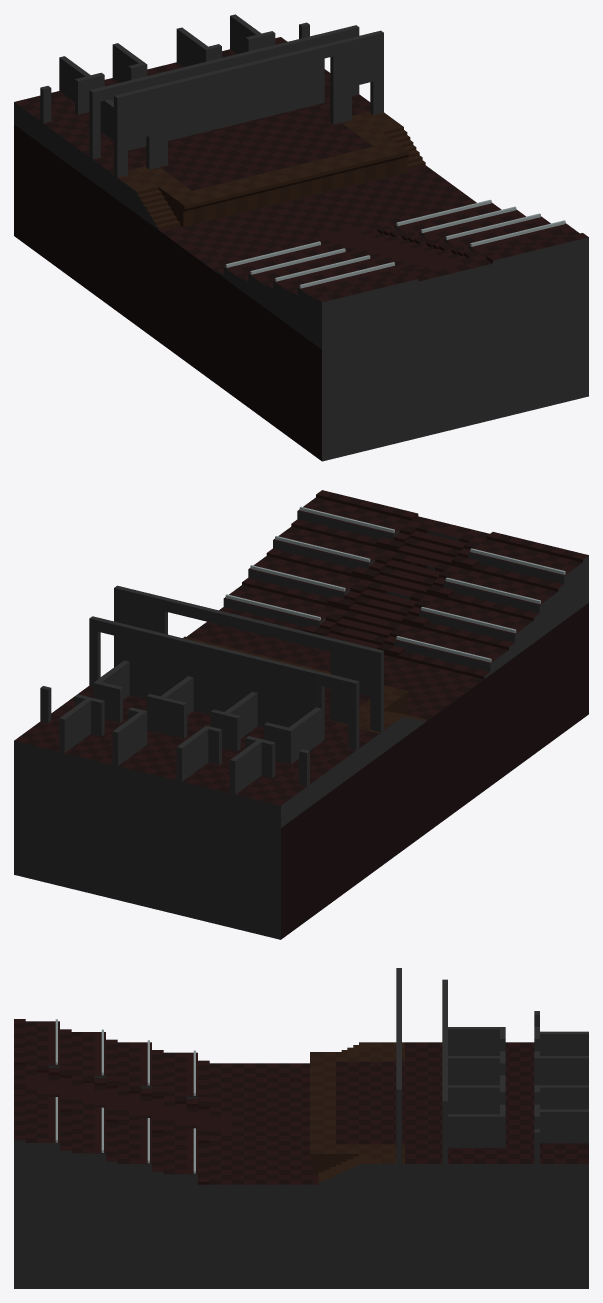
The model's file is Theat Chunk 2.FBX.
3 renders of one model, top to bottom at view 1: azimuth 30°, elevation 25°; view 2: azimuth 150°, elevation 25°; view 3: azimuth 270°, elevation 25°, orthographic. The views are drawn at different scales.
Visible parts, largest first — view 1: New Land Chunk; view 2: New Land Chunk; view 3: New Land Chunk.
Part boxes in pixels (bbox=[...]): New Land Chunk: bbox=[14, 14, 588, 461]; New Land Chunk: bbox=[14, 490, 588, 939]; New Land Chunk: bbox=[14, 968, 588, 1288].
Size of the model in its own units: 25 by 19.13 by 50.
